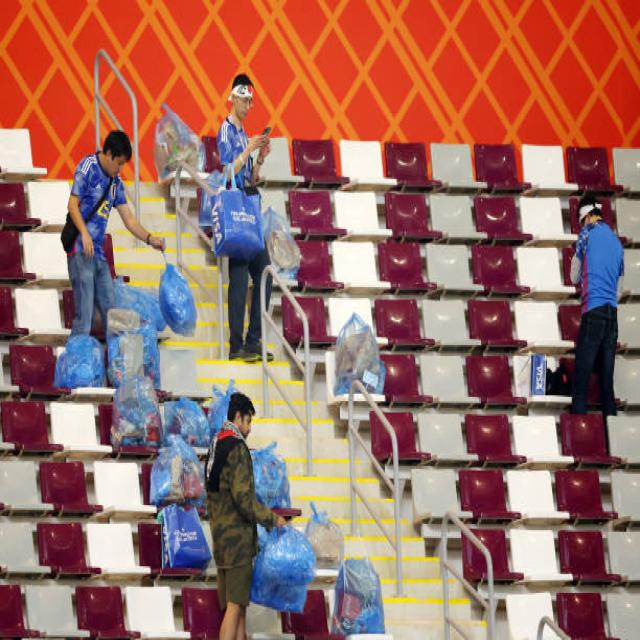trash: (107, 304, 213, 571), (302, 505, 396, 640), (243, 526, 321, 618), (331, 303, 388, 397), (149, 106, 208, 176), (55, 328, 109, 392)
